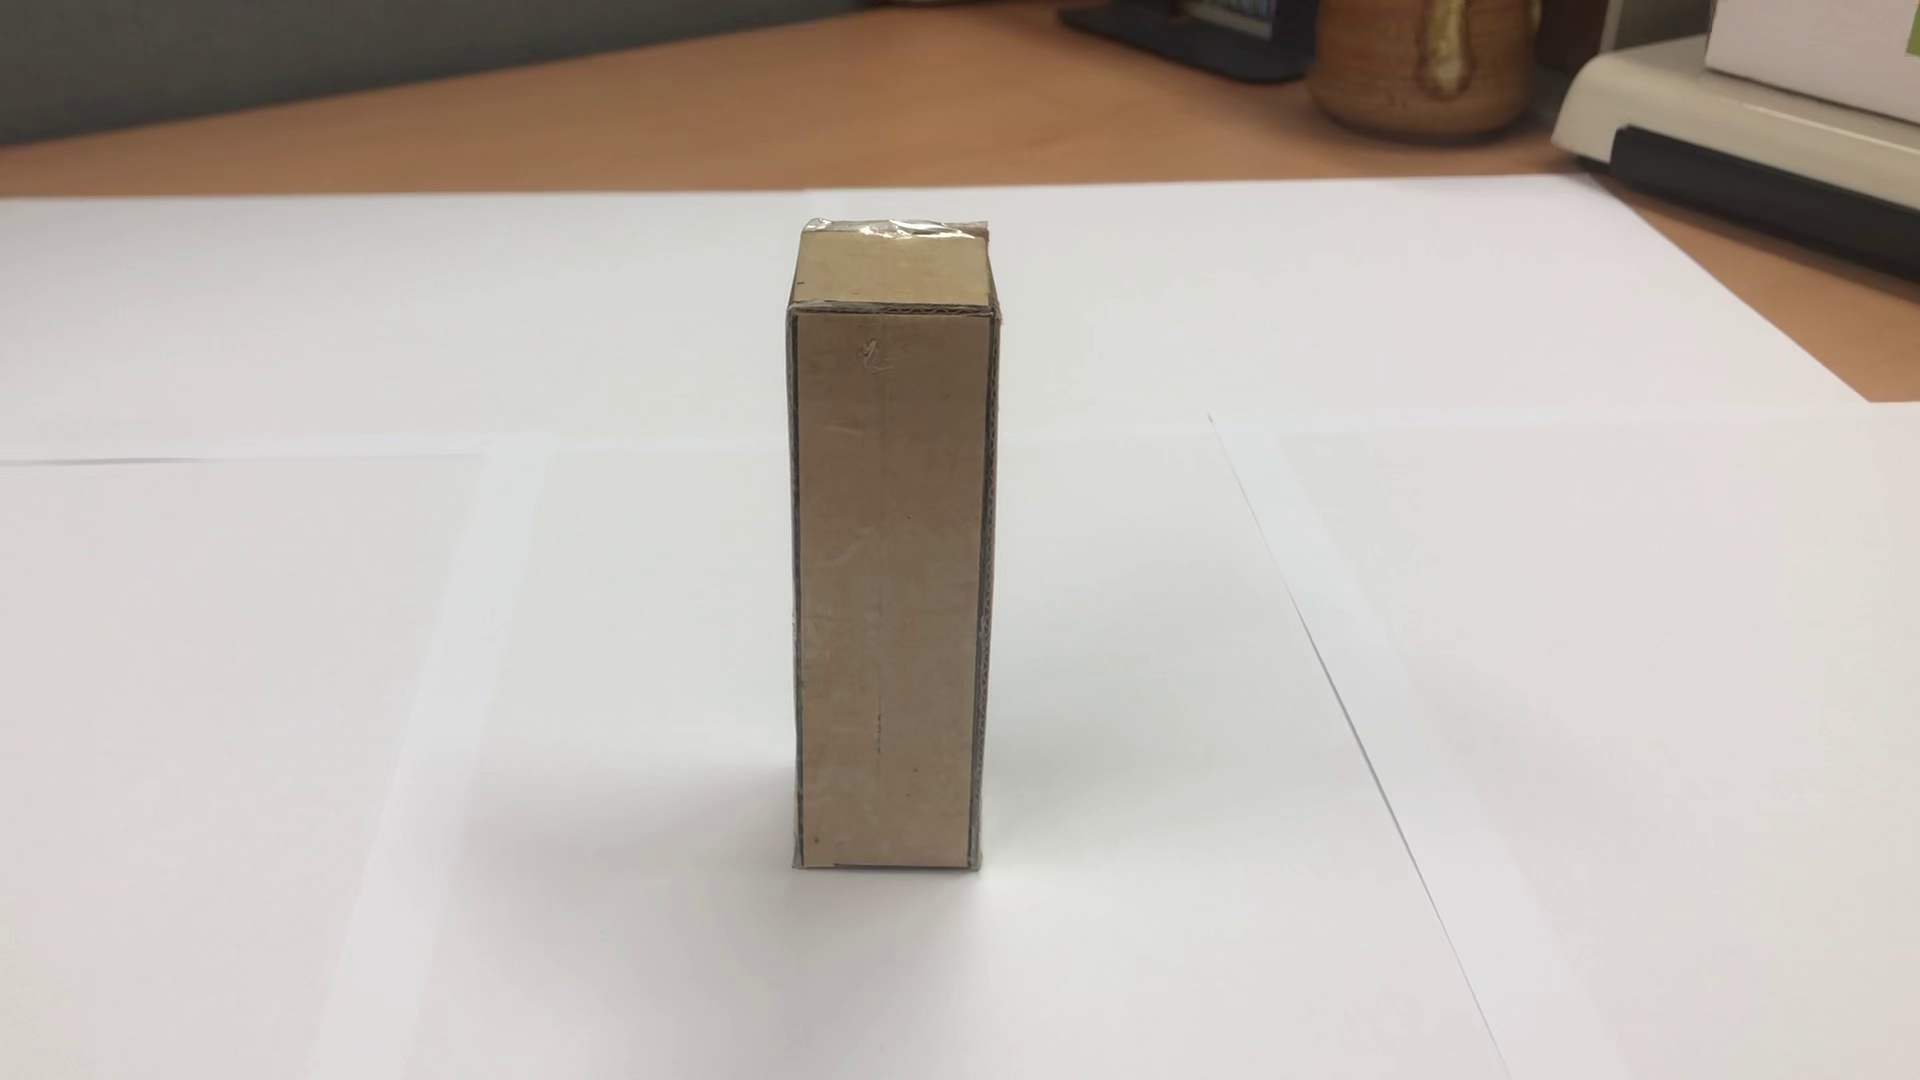box: (684, 210, 1097, 910)
